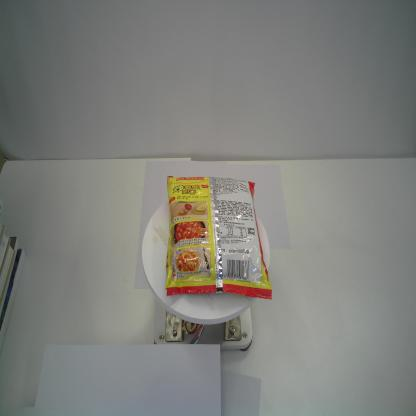Instant Noodles: (164, 173, 273, 298)
